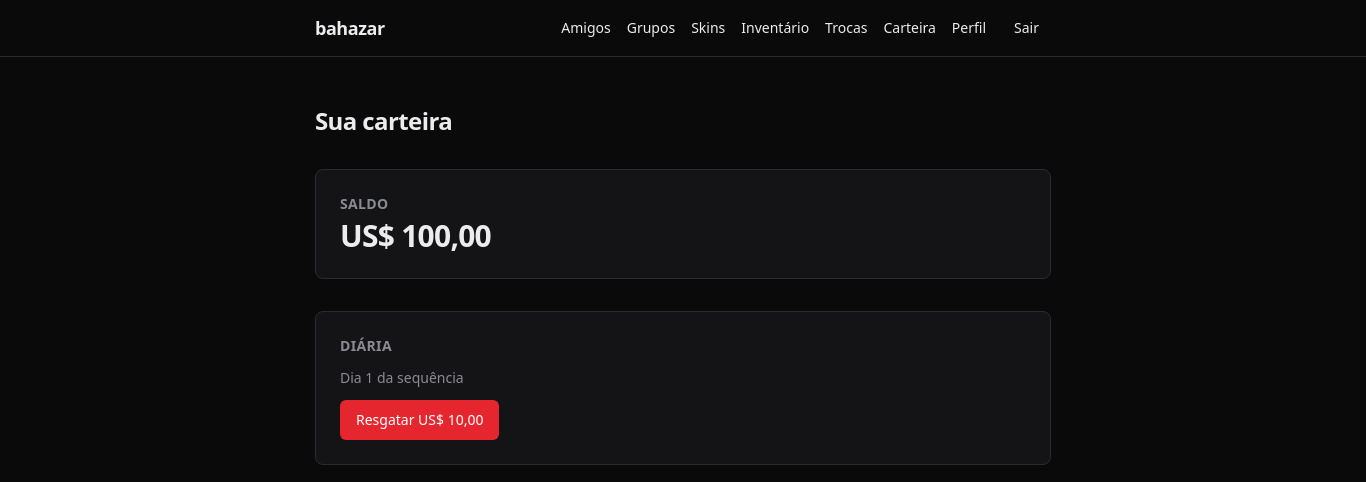
Test: WalletPage › ao sair, o saldo de quem saiu é removido do cache (não vaza para o próximo usuário)
Expected: the text "US$ 100,00" is shown, [340, 215, 491, 256]
What coordinates should you click on to do the following:
click the button "Sair"
I would click on:
 (1027, 28)
Its box is [1002, 12, 1051, 44].
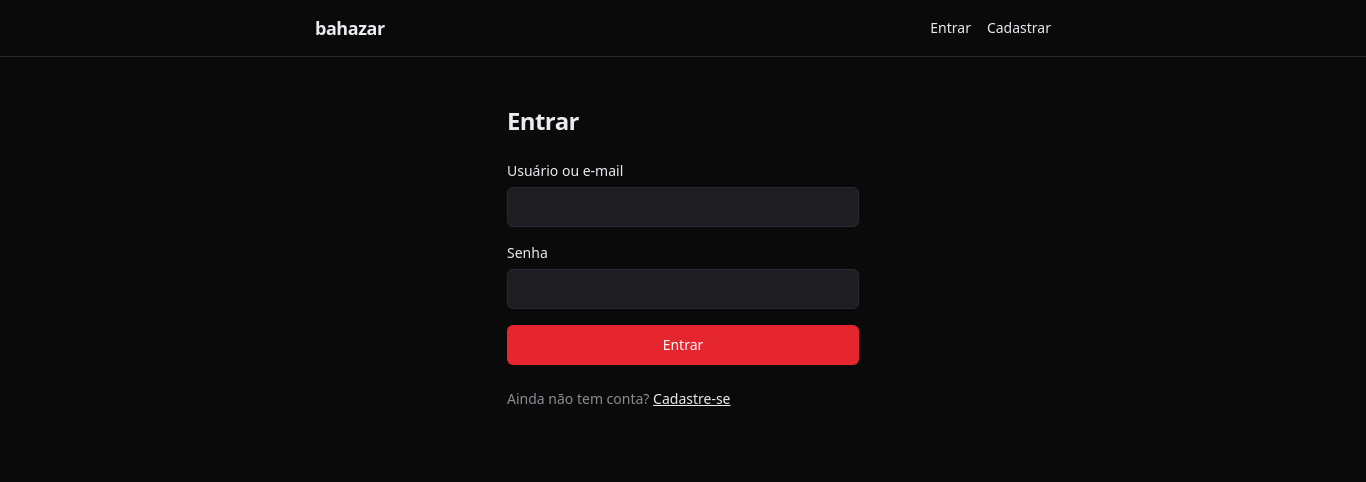
Expected: the heading "Entrar" is shown, [507, 104, 579, 137]
